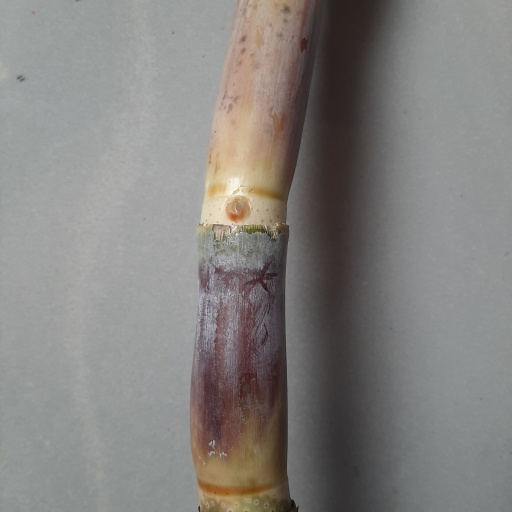Bud: (223, 194, 253, 222)
